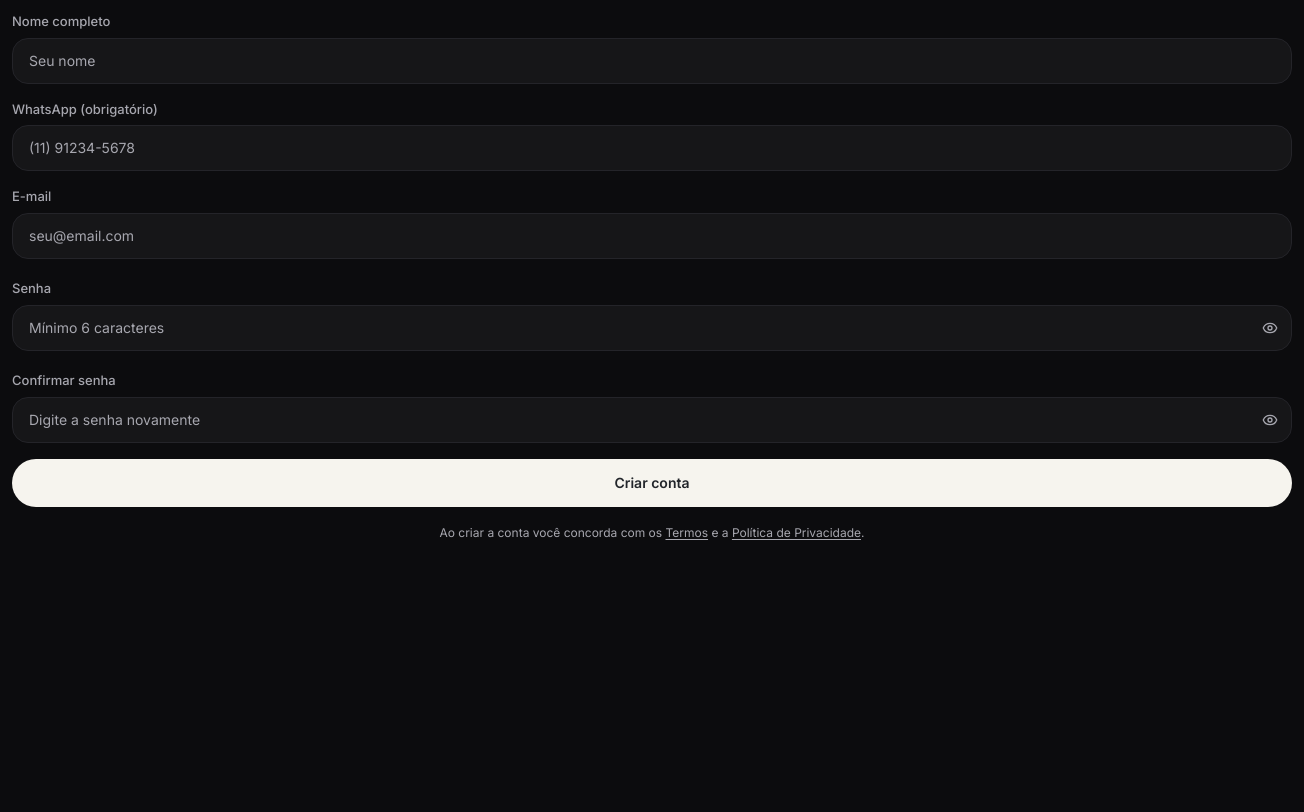
Scenario: CadastroForm › rejeita telefone inválido sem persistir cadastro
Type "Ana Silva" into the field with placeholder "Seu nome".
click(652, 60); type("Ana Silva")  # box top-left (12, 38), bottom-right (1292, 84)
Type "11912345678" into the field labelled "WhatsApp (obrigatório)".
click(652, 148); type("11912345678")  # box top-left (12, 125), bottom-right (1292, 171)
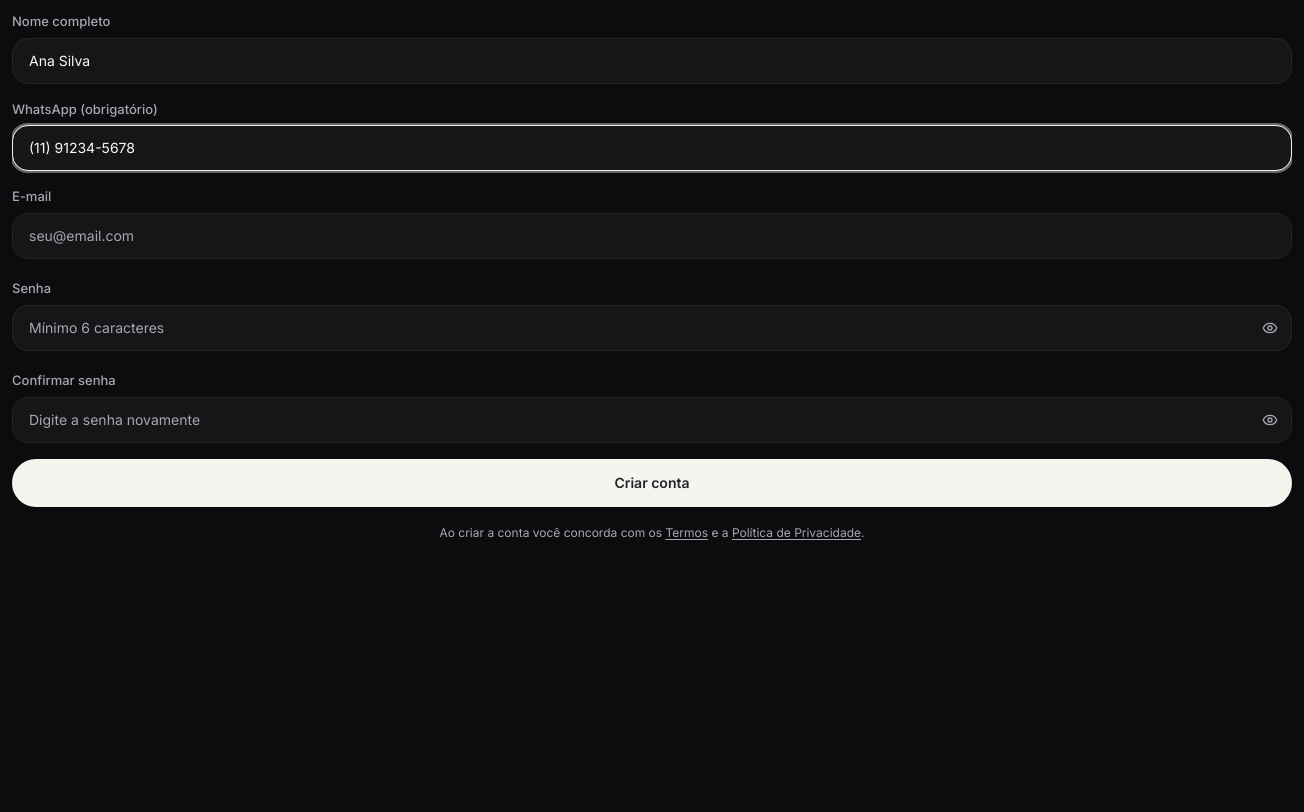
Type "ana@example.com" into the field with placeholder "seu@email.com".
click(652, 236); type("ana@example.com")  # box top-left (12, 212), bottom-right (1292, 258)
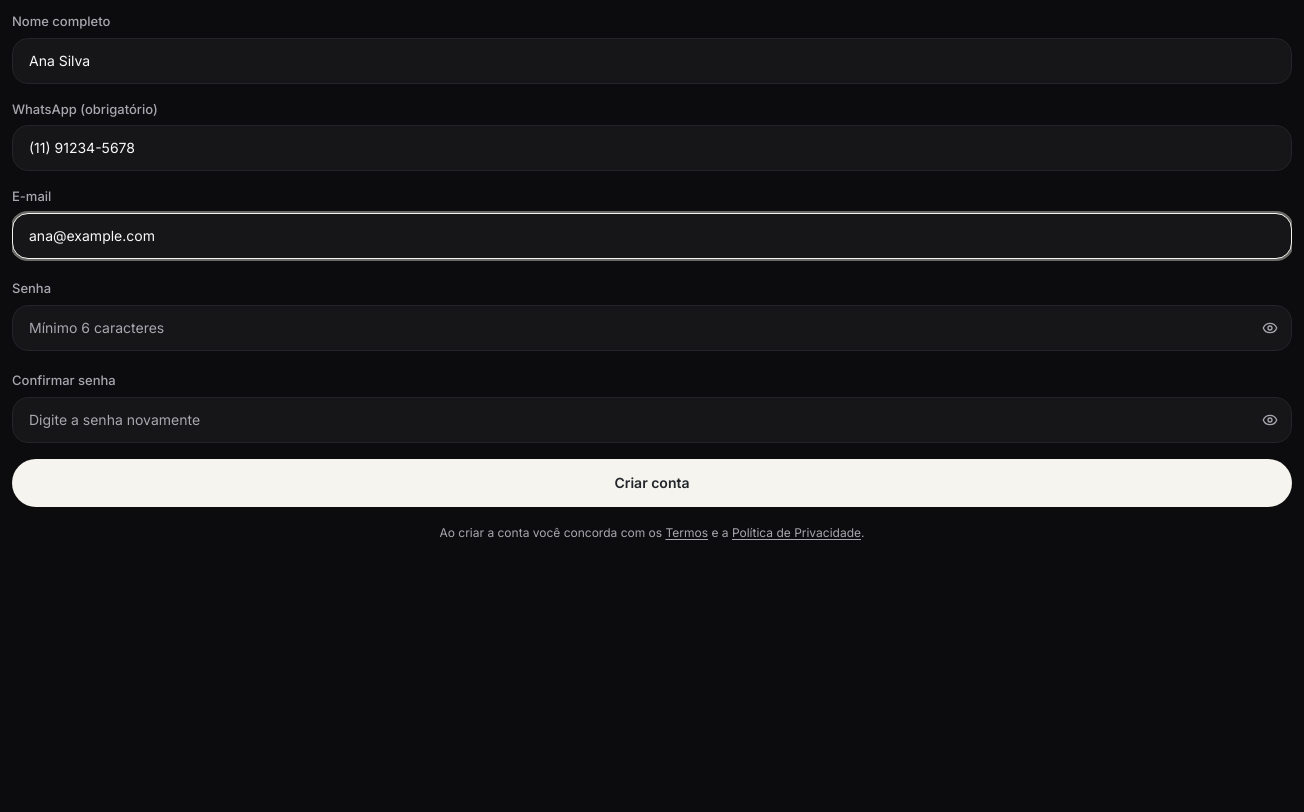
Type "(11) 9333-4444" into the field with placeholder "(11) 91234-5678".
click(652, 148); type("(11) 9333-4444")  # box top-left (12, 125), bottom-right (1292, 171)
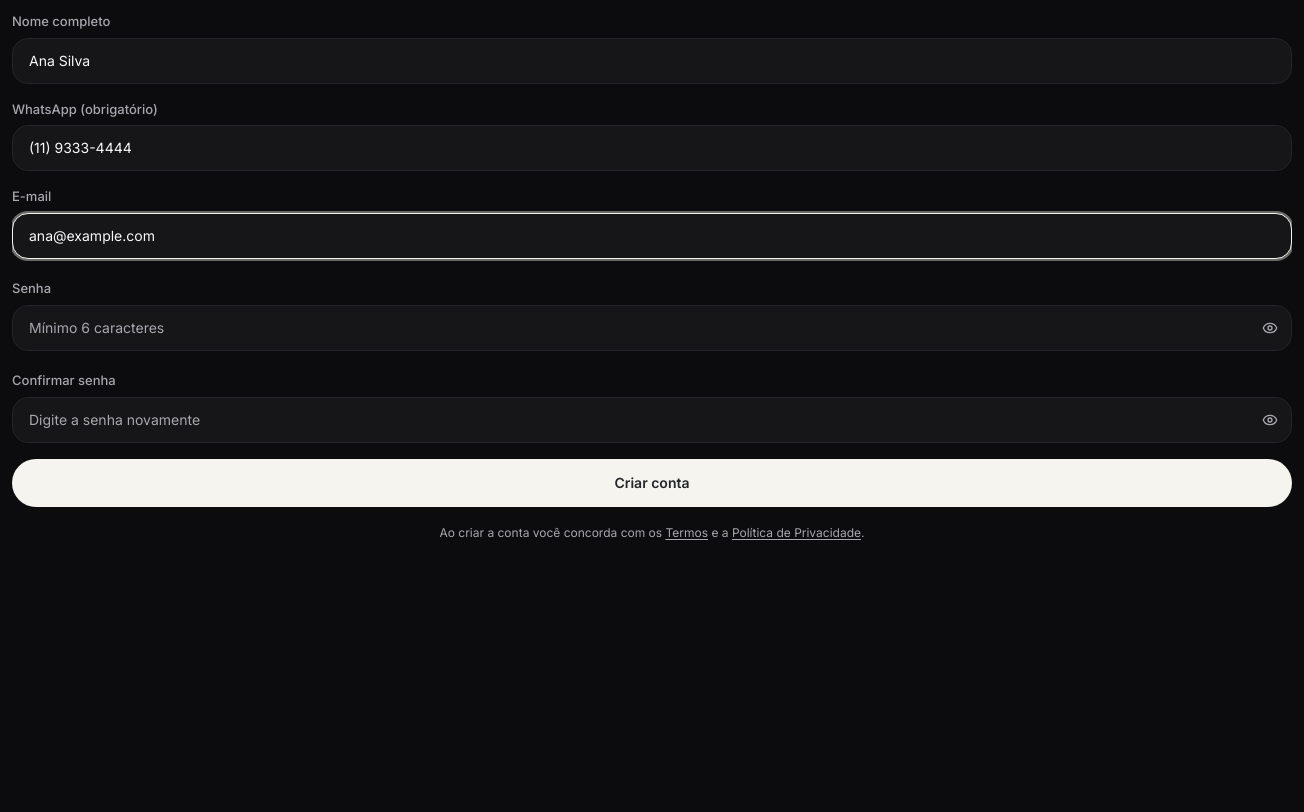
Type "123456" into the password field with placeholder "Mínimo 6 caracteres".
click(652, 328); type("123456")  # box top-left (12, 304), bottom-right (1292, 350)
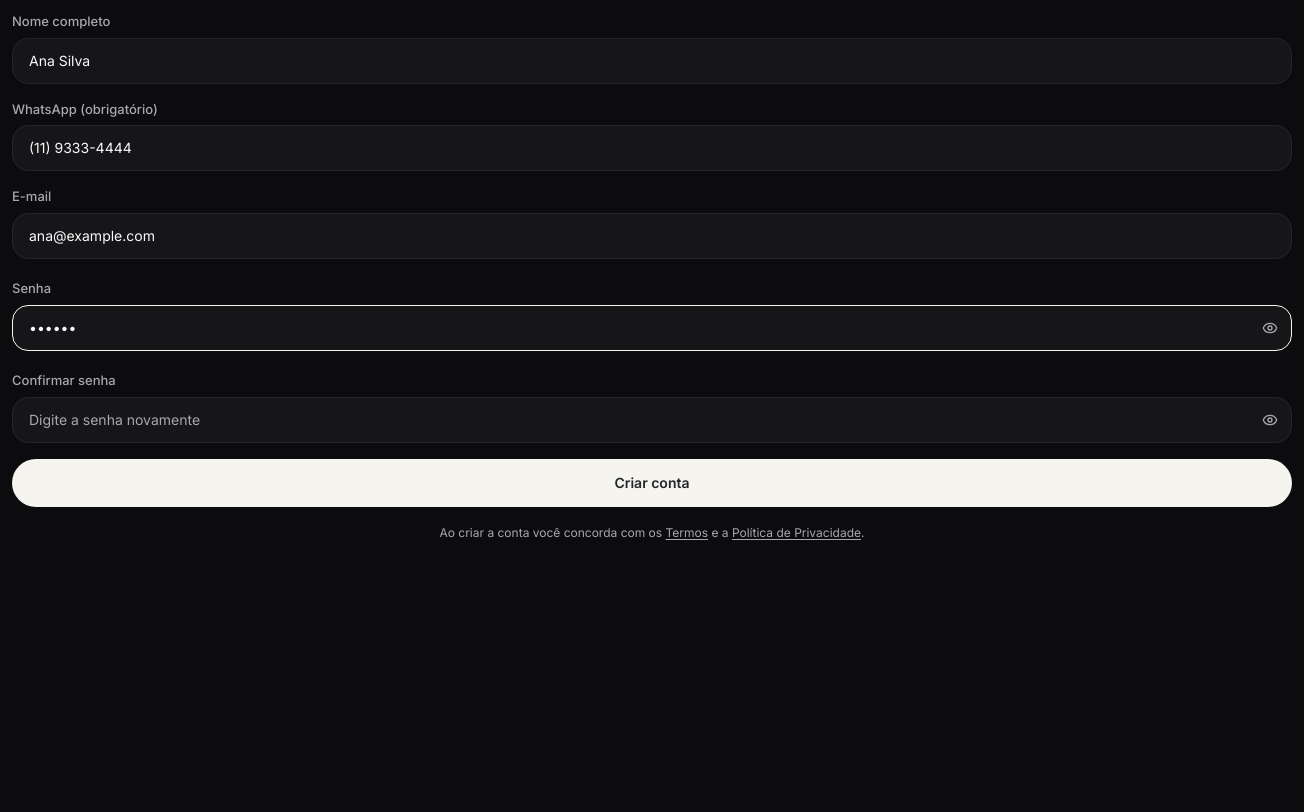
Type "123456" into the password field labelled "Confirmar senha".
click(652, 420); type("123456")  # box top-left (12, 396), bottom-right (1292, 442)
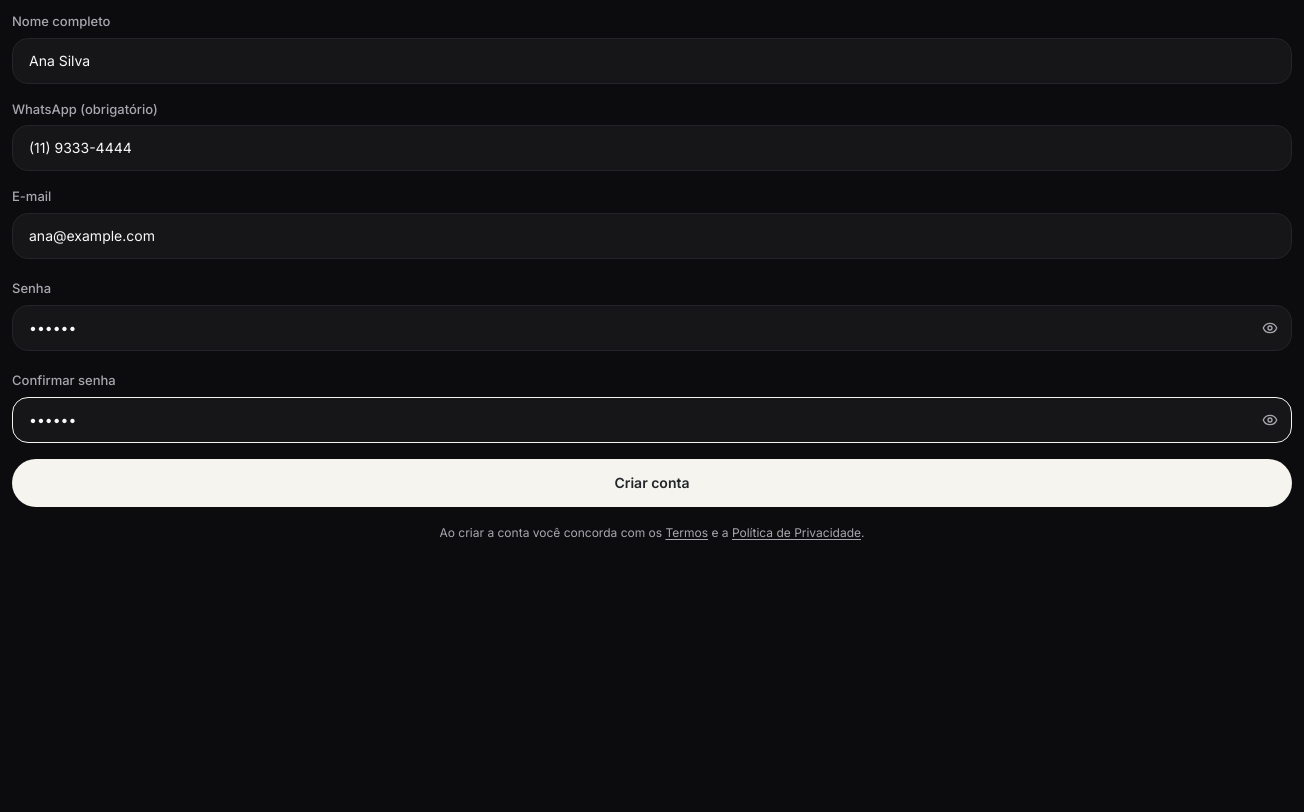
Click the button "Criar conta".
click(652, 482)  # box top-left (12, 458), bottom-right (1292, 506)
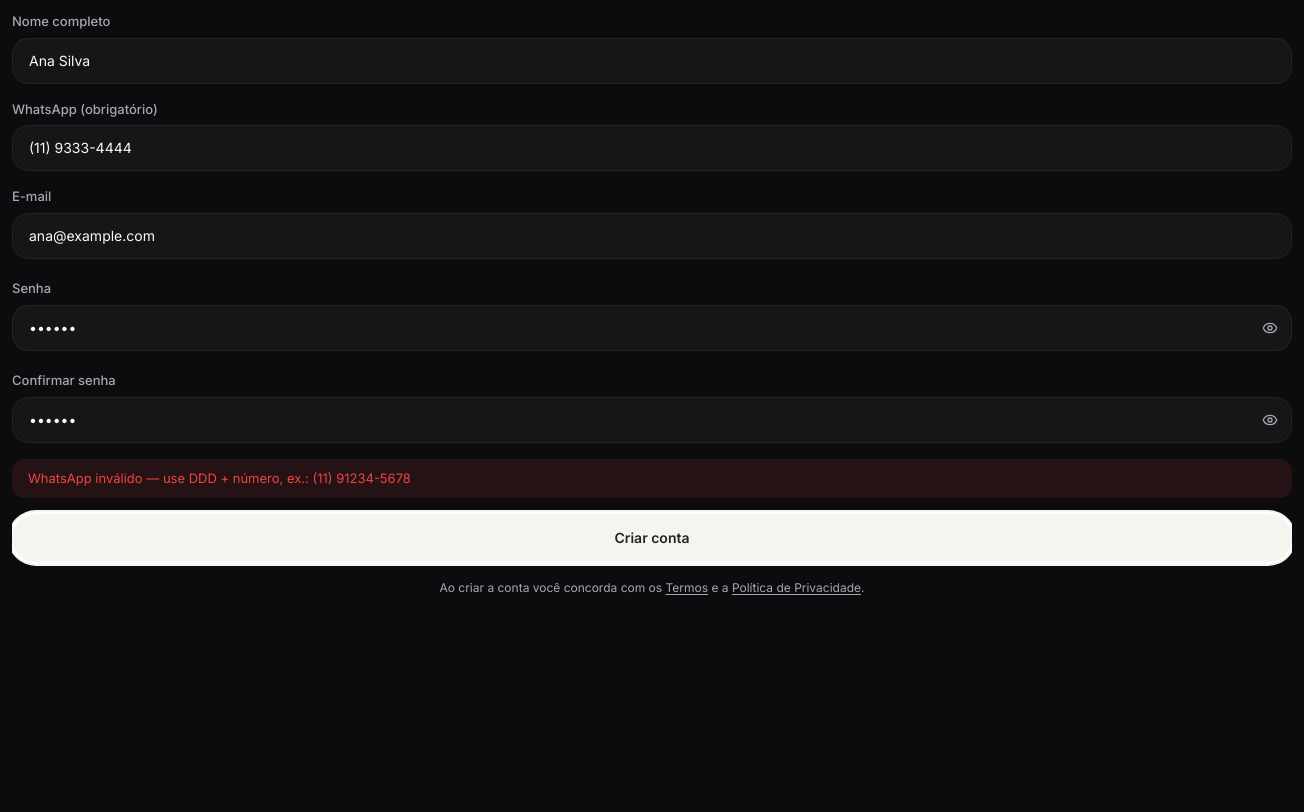
Check: the text "WhatsApp inválido — use DDD + número, ex.: (11) 91234-5678" is shown, box top-left (12, 458), bottom-right (1292, 498)
